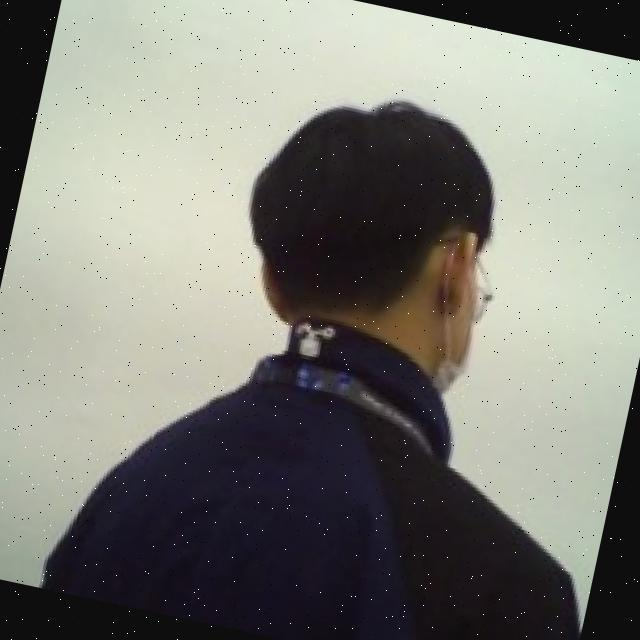no_gloves: (218, 72, 521, 378)
